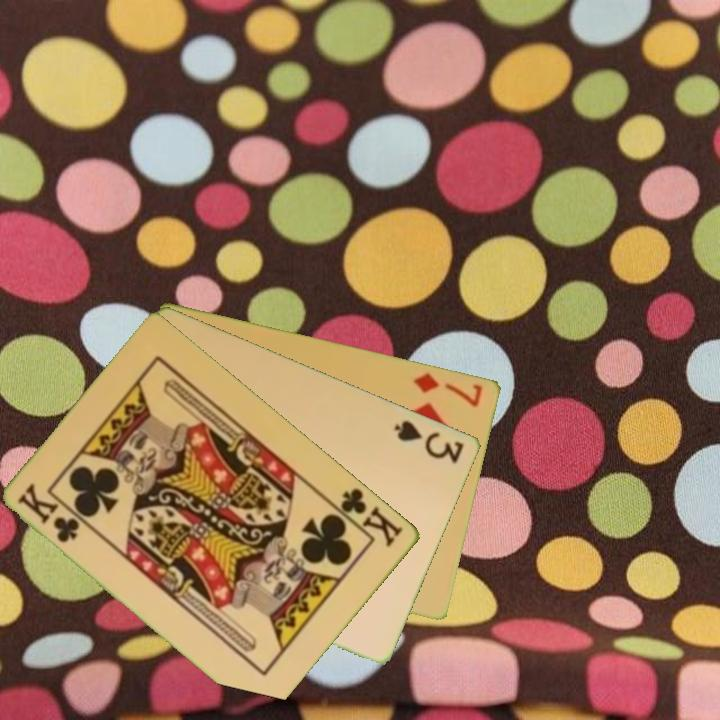3s: (391, 416, 468, 467)
7d: (410, 369, 486, 410)
Kc: (328, 484, 407, 550), (14, 480, 84, 546)
